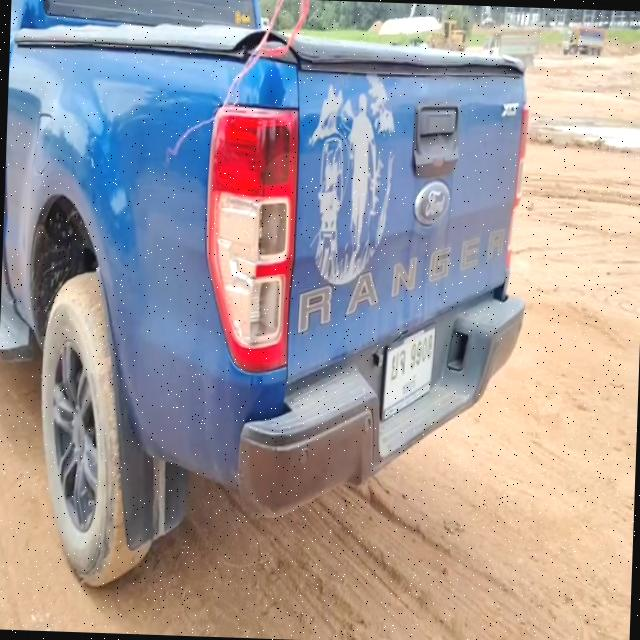Digit: (408, 336, 433, 366)
Licenseplate: (379, 319, 438, 426)
Provincename: (400, 373, 418, 399)
Thaichar: (390, 347, 406, 382)
